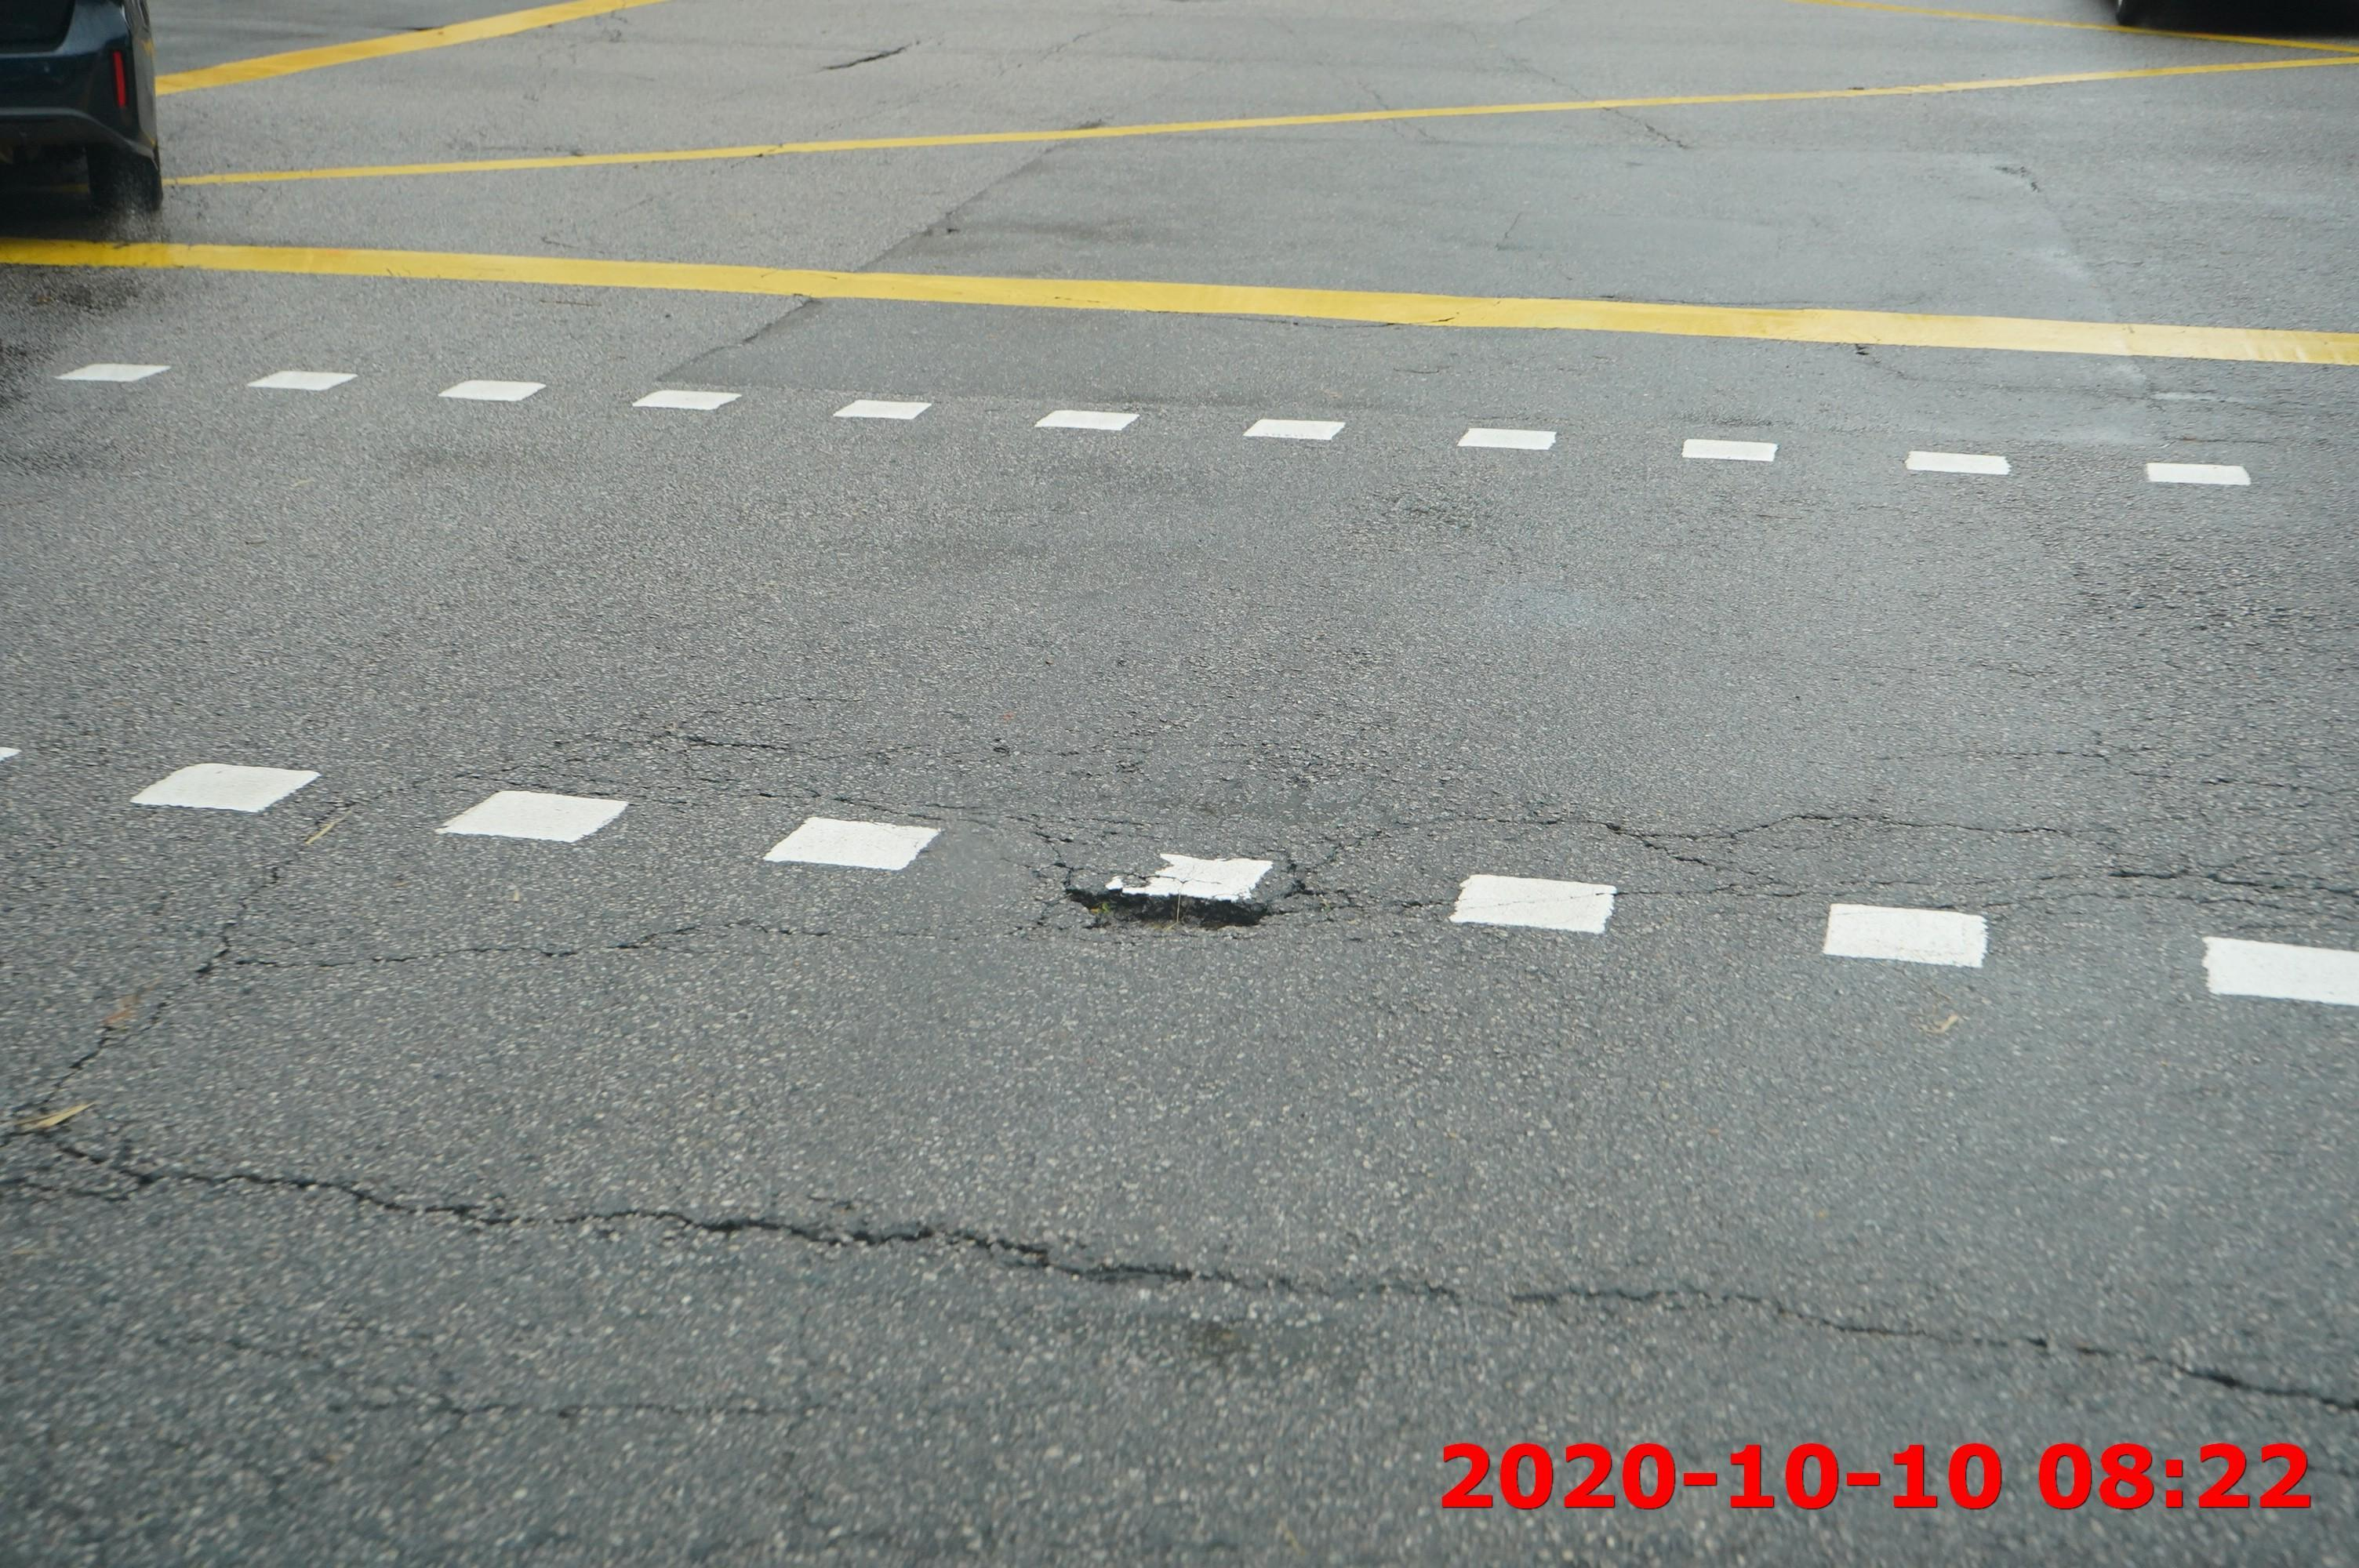block crack: (1360, 796, 2359, 941)
peeling off premix: (1048, 863, 1298, 954)
transverse crack: (12, 1122, 2359, 1440)
